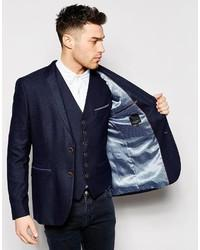F_M_suit jacket: (7, 67, 182, 212)
